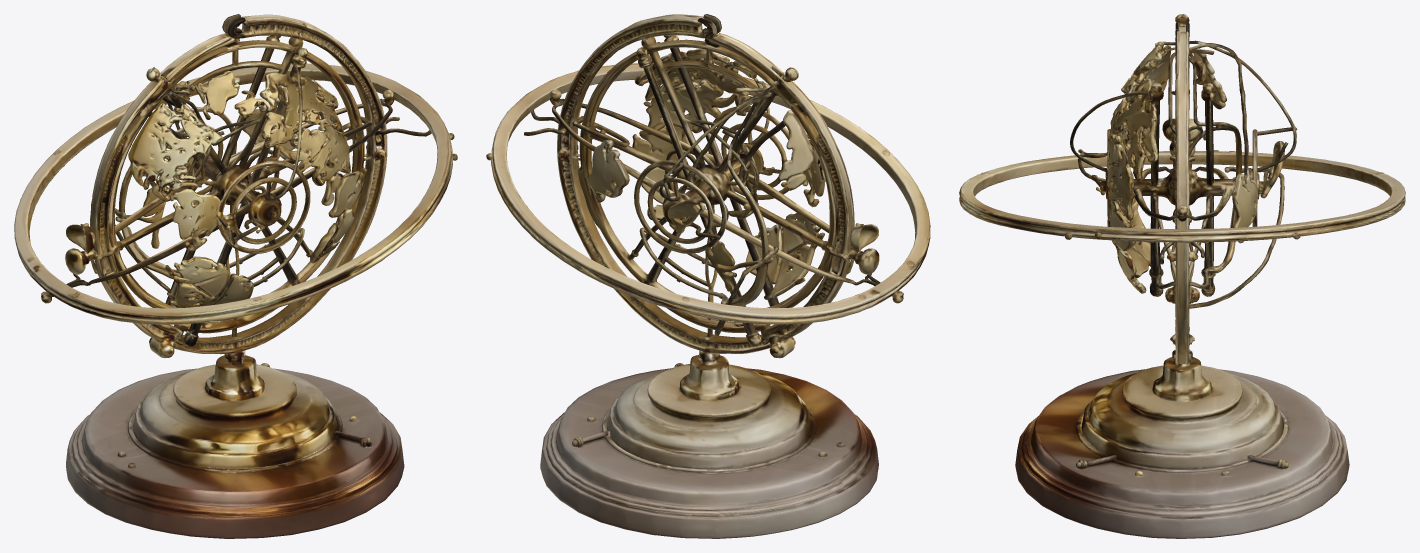
Rendered from armillary+sphere+3d+model.glb.
3 renders of one model, left to right at view 1: azimuth 30°, elevation 25°; view 2: azimuth 150°, elevation 25°; view 3: azimuth 270°, elevation 25°, orthographic.
Parts seen in each view (by area): view 1: tripo_node_fcc23d39-44f7-46c7-8168-dda46c3f869b; view 2: tripo_node_fcc23d39-44f7-46c7-8168-dda46c3f869b; view 3: tripo_node_fcc23d39-44f7-46c7-8168-dda46c3f869b.
Part boxes in pixels (x1,y1,x2,y2): tripo_node_fcc23d39-44f7-46c7-8168-dda46c3f869b: [14, 14, 457, 538]; tripo_node_fcc23d39-44f7-46c7-8168-dda46c3f869b: [486, 14, 930, 538]; tripo_node_fcc23d39-44f7-46c7-8168-dda46c3f869b: [959, 14, 1405, 538].
Size of the model in its own units: 0.8764 by 0.979 by 0.8899.
Materials: 1 (1 with a texture image).
